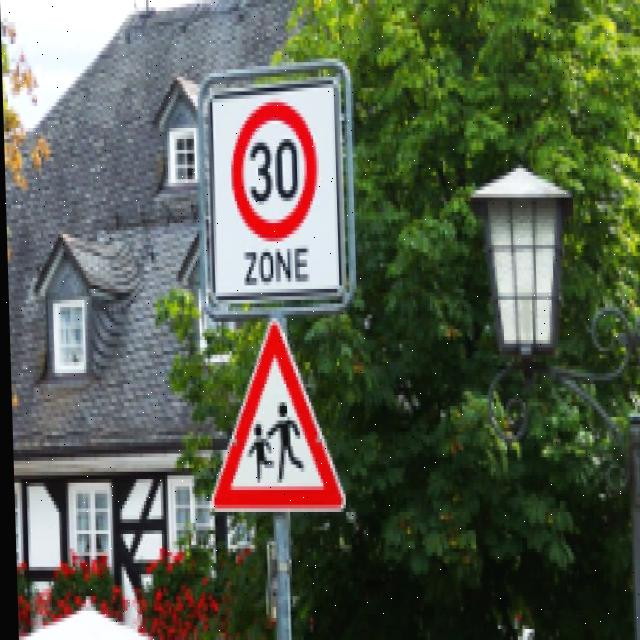Speed limit 30: (226, 99, 323, 246)
